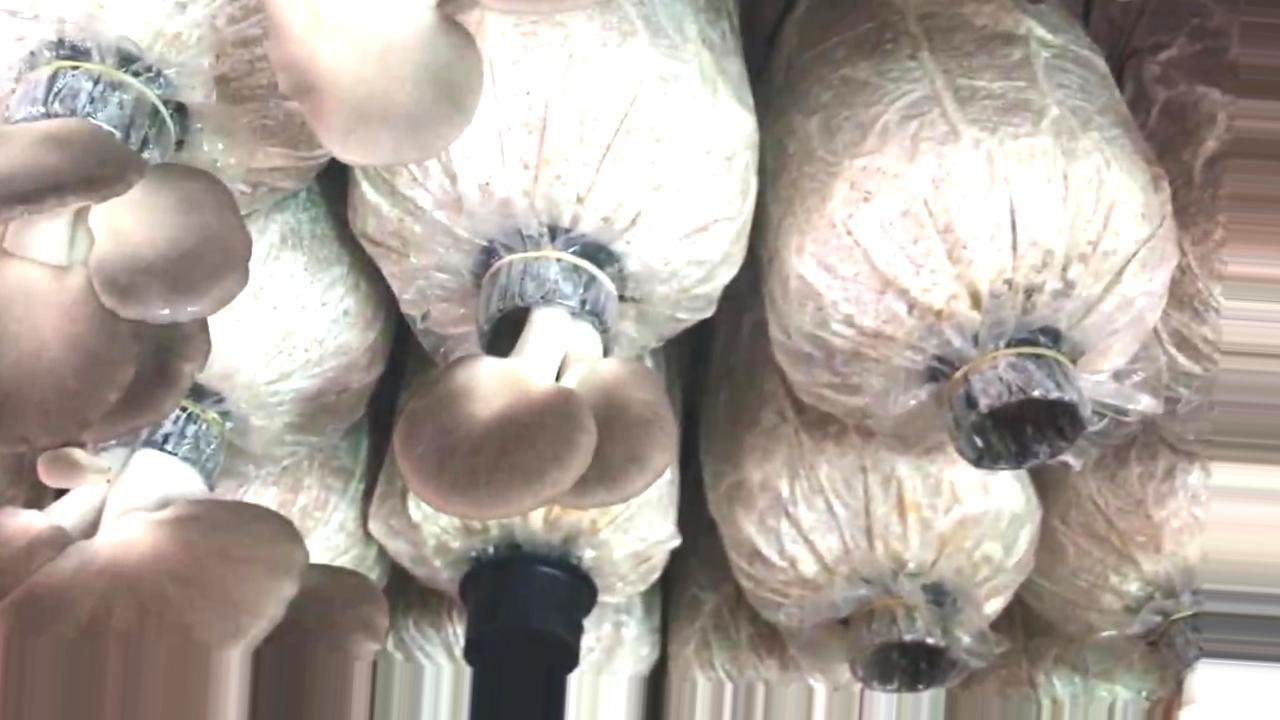nam: (1, 396, 391, 718), (1, 34, 253, 453), (392, 248, 681, 518), (268, 1, 484, 166)
